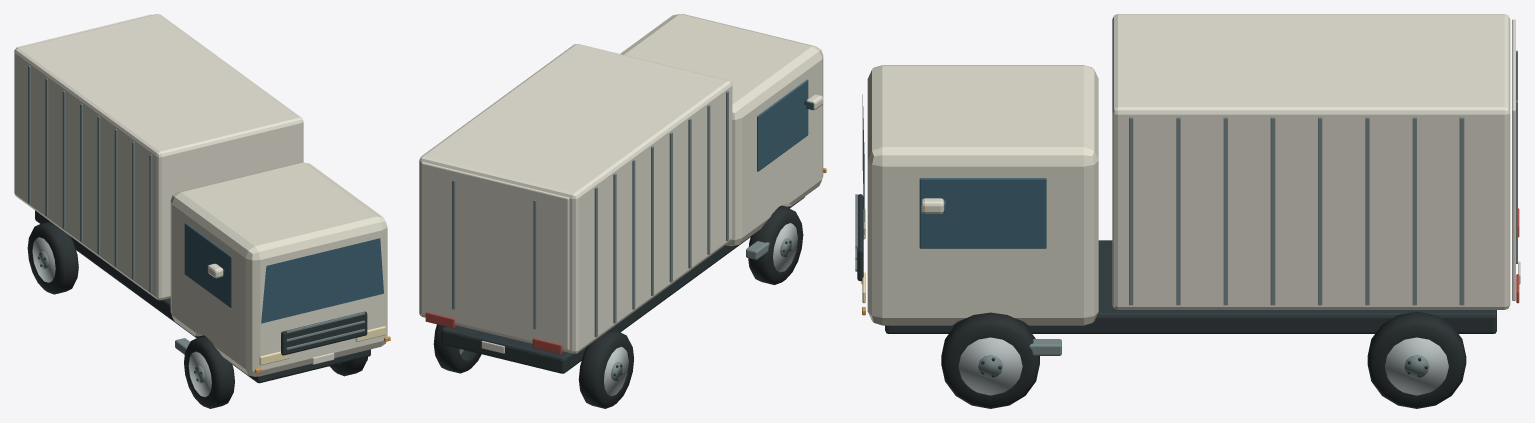
Rendered from original-truck-box-01.glb.
The picture shows the model from 3 angles, left to right: view 1: azimuth 30°, elevation 25°; view 2: azimuth 150°, elevation 25°; view 3: azimuth 270°, elevation 25°; orthographic projection. The views are drawn at different scales.
Visible parts, largest first — view 1: CargoBox, TruckCab, TruckWindscreen, CabSideGlass, Tyre_RR, Frame, Tyre_FR, CabGrille, Rim_RR, Rim_FR, CargoRib, CargoRib.003 (+7 smaller); view 2: CargoBox, CargoRearDoors, TruckCab, Frame, CabSideGlass, Tyre_RR, Tyre_FR, Tyre_RL, Rim_RR, Rim_FR, CargoRib.006, CargoRib.002 (+8 smaller); view 3: CargoBox, TruckCab, Frame, CabSideGlass.001, Tyre_RL, Tyre_FL, Rim_FL, Rim_RL, CargoRib.011, CargoRib.015, CargoRearDoors, CargoRib.009 (+5 smaller).
Boxes of the visible parts, left/top/right/bottom form: CargoBox: left=14, top=14, right=303, bottom=300; TruckCab: left=170, top=162, right=387, bottom=376; TruckWindscreen: left=261, top=238, right=383, bottom=323; CabSideGlass: left=184, top=223, right=231, bottom=307; Tyre_RR: left=27, top=221, right=78, bottom=294; Frame: left=35, top=210, right=370, bottom=383; Tyre_FR: left=184, top=336, right=234, bottom=408; CabGrille: left=281, top=311, right=367, bottom=355; Rim_RR: left=32, top=237, right=55, bottom=282; Rim_FR: left=188, top=351, right=211, bottom=396; CargoRib: left=149, top=154, right=152, bottom=292; CargoRib.003: left=97, top=116, right=100, bottom=254; CargoBox: left=419, top=44, right=732, bottom=353; CargoRearDoors: left=421, top=162, right=569, bottom=350; TruckCab: left=620, top=14, right=823, bottom=245; Frame: left=441, top=197, right=804, bottom=373; CabSideGlass: left=757, top=79, right=808, bottom=171; Tyre_RR: left=578, top=330, right=633, bottom=408; Tyre_FR: left=748, top=206, right=803, bottom=284; Tyre_RL: left=433, top=324, right=481, bottom=373; Rim_RR: left=604, top=347, right=628, bottom=395; Rim_FR: left=773, top=223, right=797, bottom=272; CargoRib.006: left=613, top=173, right=616, bottom=323; CargoRib.002: left=688, top=118, right=691, bottom=268; CargoBox: left=1112, top=14, right=1510, bottom=309; TruckCab: left=867, top=65, right=1098, bottom=325; Frame: left=885, top=240, right=1496, bottom=333; CabSideGlass.001: left=919, top=178, right=1046, bottom=248; Tyre_RL: left=1367, top=311, right=1466, bottom=408; Tyre_FL: left=941, top=312, right=1039, bottom=408; Rim_FL: left=958, top=337, right=1022, bottom=395; Rim_RL: left=1385, top=337, right=1448, bottom=395; CargoRib.011: left=1270, top=117, right=1275, bottom=305; CargoRib.015: left=1459, top=117, right=1464, bottom=305; CargoRearDoors: left=1512, top=19, right=1515, bottom=300; CargoRib.009: left=1176, top=117, right=1180, bottom=305.
Bounding box in the file's own units: 2.6 × 3.15 × 6.34.
